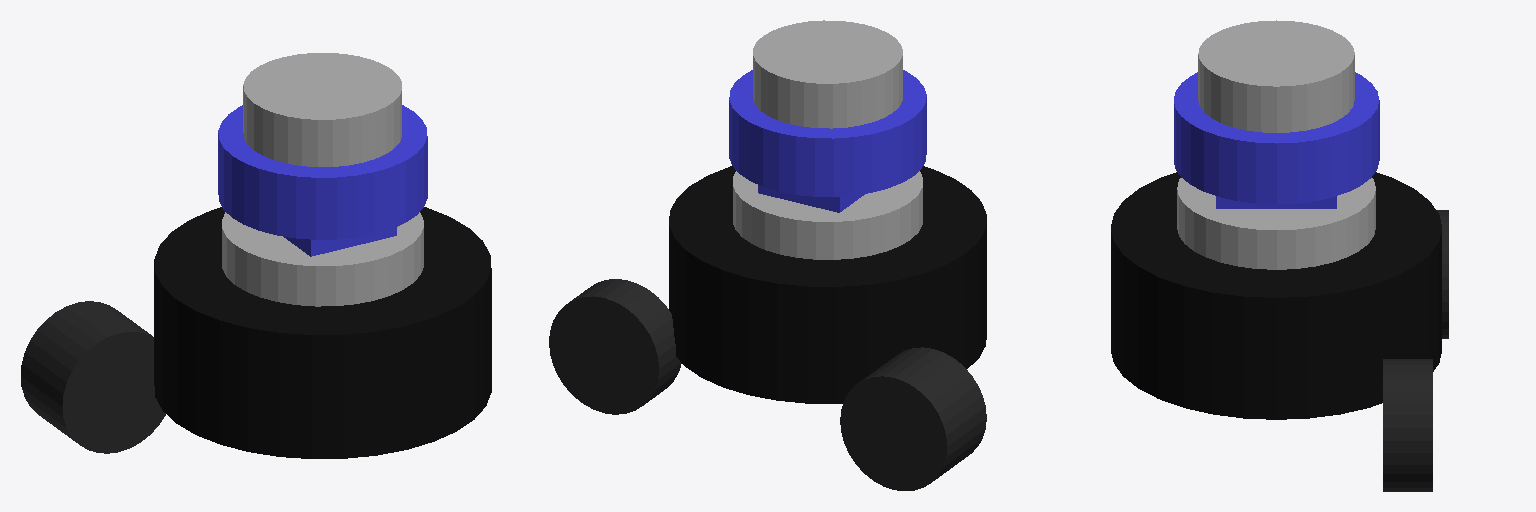
URDF robot description (evolved_robot):
<?xml version="1.0"?>
<robot name="evolved_robot">
  <material name="metal">
    <color rgba="0.7 0.7 0.7 1.0"/>
  </material>
  <material name="plastic">
    <color rgba="0.3 0.3 0.9 1.0"/>
  </material>
  <material name="rubber">
    <color rgba="0.1 0.1 0.1 1.0"/>
  </material>
  <material name="red">
    <color rgba="1.0 0.0 0.0 1.0"/>
  </material>
  <material name="wheel_material">
    <color rgba="0.2 0.2 0.2 1.0"/>
  </material>
  <link name="base_link">
    <visual>
      <geometry><cylinder radius="0.15440576260716007" length="0.12522916229259243"/></geometry>
      <material name="rubber"/>
    </visual>
    <collision>
      <geometry><cylinder radius="0.15440576260716007" length="0.12522916229259243"/></geometry>
    </collision>
    <inertial>
      <mass value="5.0"/>
      <inertia ixx="0.07267146805616706" ixy="0" ixz="0" 
               iyy="0.07267146805616706" iyz="0" 
               izz="0.11920569763149336"/>
    </inertial>
  </link>
  <link name="link1">
    <visual>
      <geometry><cylinder radius="0.09259377795272897" length="0.08096577227283364"/></geometry>
      <material name="metal"/>
    </visual>
    <collision>
      <geometry><cylinder radius="0.09259377795272897" length="0.08096577227283364"/></geometry>
    </collision>
    <inertial>
      <mass value="0.5"/>
      <inertia ixx="0.0026896899522011824" ixy="0" ixz="0" 
               iyy="0.0026896899522011824" iyz="0" 
               izz="0.004286803857779639"/>
    </inertial>
  </link>
  <joint name="joint1" type="prismatic">
    <parent link="base_link"/>
    <child link="link1"/>
    <origin xyz="0 0 0.06261458114629621" rpy="0 0 0"/>
    <axis xyz="0.017761129902743065 -0.8155828639514601 0.578367646305801"/>
    <dynamics damping="0.1259254720192044" friction="0.1"/>
    <limit lower="-2.349081321379396" upper="1.0294274822462042" effort="100" velocity="100"/>
  </joint>
  <link name="link2">
    <visual>
      <geometry><box size="0.09107775807378744 0.11316454820688669 0.05305812551028571"/></geometry>
      <material name="plastic"/>
    </visual>
    <collision>
      <geometry><box size="0.09107775807378744 0.11316454820688669 0.05305812551028571"/></geometry>
    </collision>
    <inertial>
      <mass value="0.5"/>
      <inertia ixx="0.0013017816377945011" ixy="0" ixz="0" 
               iyy="0.0009258602248677153" iyz="0" 
               izz="0.001758447748884678"/>
    </inertial>
  </link>
  <joint name="joint2" type="revolute">
    <parent link="base_link"/>
    <child link="link2"/>
    <origin xyz="0 0 0.11261458114629622" rpy="0 0 0"/>
    <axis xyz="0.33667295745563486 0.9403071282687655 -0.049737553669469324"/>
    <dynamics damping="0.8738560499960275" friction="0.1"/>
    <limit lower="-2.92008846408119" upper="0.6914900117211153" effort="100" velocity="100"/>
  </joint>
  <link name="link3">
    <visual>
      <geometry><cylinder radius="0.09581480799087062" length="0.06260350402744733"/></geometry>
      <material name="plastic"/>
    </visual>
    <collision>
      <geometry><cylinder radius="0.09581480799087062" length="0.06260350402744733"/></geometry>
    </collision>
    <inertial>
      <mass value="0.5"/>
      <inertia ixx="0.0026217192506247356" ixy="0" ixz="0" 
               iyy="0.0026217192506247356" iyz="0" 
               izz="0.0045902387151637025"/>
    </inertial>
  </link>
  <joint name="joint3" type="fixed">
    <parent link="base_link"/>
    <child link="link3"/>
    <origin xyz="0 0 0.16261458114629623" rpy="0 0 0"/>
    <axis xyz="0.40542350456021187 0.8966845286149621 0.17773192761200504"/>
    <dynamics damping="0.21045667114747402" friction="0.1"/>
  </joint>
  <link name="link4">
    <visual>
      <geometry>
        <cylinder radius="0.06162747907727857" length="0.046474526636084534"/>
      </geometry>
      <material name="wheel_material"/>
    </visual>
    <collision>
      <geometry>
        <cylinder radius="0.06162747907727857" length="0.046474526636084534"/>
      </geometry>
    </collision>
    <inertial>
      <mass value="1.0"/>
      <inertia ixx="0.001129476679859113" ixy="0" ixz="0" 
               iyy="0.001129476679859113" iyz="0" 
               izz="0.001898973088710204"/>
    </inertial>
  </link>
  <joint name="joint4" type="continuous">
    <parent link="base_link"/>
    <child link="link4"/>
    <origin xyz="0.16633844899742714 0.12247307621689303 -0.06261458114629621" rpy="1.5708 0 0"/>
    <axis xyz="0 1 0"/>
    <dynamics damping="0.5080480360255609" friction="0.1"/>
  </joint>
  <link name="link5">
    <visual>
      <geometry>
        <cylinder radius="0.05995833273399202" length="0.07669806271297437"/>
      </geometry>
      <material name="wheel_material"/>
    </visual>
    <collision>
      <geometry>
        <cylinder radius="0.05995833273399202" length="0.07669806271297437"/>
      </geometry>
    </collision>
    <inertial>
      <mass value="1.0"/>
      <inertia ixx="0.001388966484720304" ixy="0" ixz="0" 
               iyy="0.001388966484720304" iyz="0" 
               izz="0.0017975008321200496"/>
    </inertial>
  </link>
  <joint name="joint5" type="prismatic">
    <parent link="base_link"/>
    <child link="link5"/>
    <origin xyz="-0.16633844899742714 0.12247307621689303 -0.06261458114629621" rpy="1.5708 0 0"/>
    <axis xyz="0 1 0"/>
    <dynamics damping="0.7918402641899963" friction="0.1"/>
  </joint>
  <link name="link6">
    <visual>
      <geometry><cylinder radius="0.07285014301738857" length="0.05795560129066046"/></geometry>
      <material name="metal"/>
    </visual>
    <collision>
      <geometry><cylinder radius="0.07285014301738857" length="0.05795560129066046"/></geometry>
    </collision>
    <inertial>
      <mass value="0.5"/>
      <inertia ixx="0.0016066901444936593" ixy="0" ixz="0" 
               iyy="0.0016066901444936593" iyz="0" 
               izz="0.002653571668826984"/>
    </inertial>
  </link>
  <joint name="joint6" type="revolute">
    <parent link="base_link"/>
    <child link="link6"/>
    <origin xyz="0 0 0.21261458114629622" rpy="0 0 0"/>
    <axis xyz="0.026443391781768952 0.9793484697847002 0.20044281419258167"/>
    <dynamics damping="0.22654745826912925" friction="0.1"/>
    <limit lower="-0.41904443805733194" upper="1.7004525074439392" effort="100" velocity="100"/>
  </joint>
</robot>

--- Facts derived from the render (not from the file) ---
3 views of the same robot in one strip: view 1: azimuth 30°, elevation 25°; view 2: azimuth 150°, elevation 25°; view 3: azimuth 270°, elevation 25° (orthographic).
Model evolved_robot with 7 links and 6 joints (2 revolute, 1 continuous, 2 prismatic, 1 fixed), rooted at base_link, posed all joints at 0.
Visible links, largest first — view 1: base_link, link3, link5, link6, link1, link2; view 2: base_link, link5, link3, link6, link4, link1, link2; view 3: base_link, link3, link6, link1, link4, link5, link2.
Link boxes in pixels (x1,y1,x2,y2): base_link: [154, 207, 491, 458]; link3: [218, 105, 427, 239]; link5: [21, 301, 165, 453]; link6: [243, 53, 401, 166]; link1: [222, 212, 423, 306]; link2: [284, 227, 396, 256]; base_link: [669, 166, 986, 403]; link5: [840, 347, 986, 490]; link3: [729, 70, 926, 196]; link6: [753, 20, 902, 128]; link4: [549, 279, 681, 414]; link1: [733, 171, 922, 259]; link2: [758, 185, 864, 212]; base_link: [1111, 172, 1441, 419]; link3: [1174, 72, 1379, 203]; link6: [1198, 20, 1354, 132]; link1: [1177, 178, 1375, 269]; link4: [1383, 359, 1432, 491]; link5: [1437, 210, 1448, 338]; link2: [1216, 196, 1336, 208].
Bounding box of the posed robot: 0.4543 × 0.3152 × 0.3658 m (x, y, z).
Geometry: primitives only (box / cylinder / sphere), no mesh files.